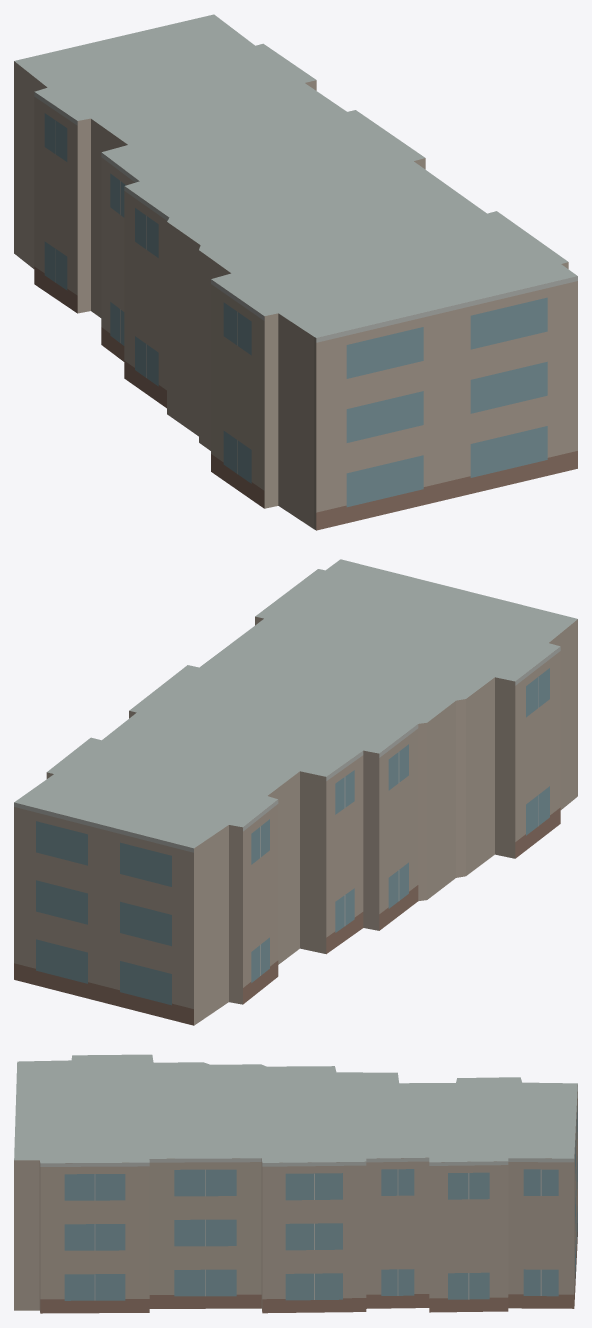
Rendered from survey-upis-32613286.glb.
3 renders of one model, top to bottom at view 1: azimuth 30°, elevation 25°; view 2: azimuth 150°, elevation 25°; view 3: azimuth 270°, elevation 25°, orthographic. The views are drawn at different scales.
Visible parts, largest first — view 1: survey-upis-32613286.tmp; view 2: survey-upis-32613286.tmp; view 3: survey-upis-32613286.tmp.
Boxes of the visible parts, x1,y1,x2,y2 form: survey-upis-32613286.tmp: (14, 14, 577, 530); survey-upis-32613286.tmp: (14, 559, 577, 1025); survey-upis-32613286.tmp: (14, 1054, 577, 1313).
Size of the model in its own units: 15.08 by 9.7 by 33.02.
